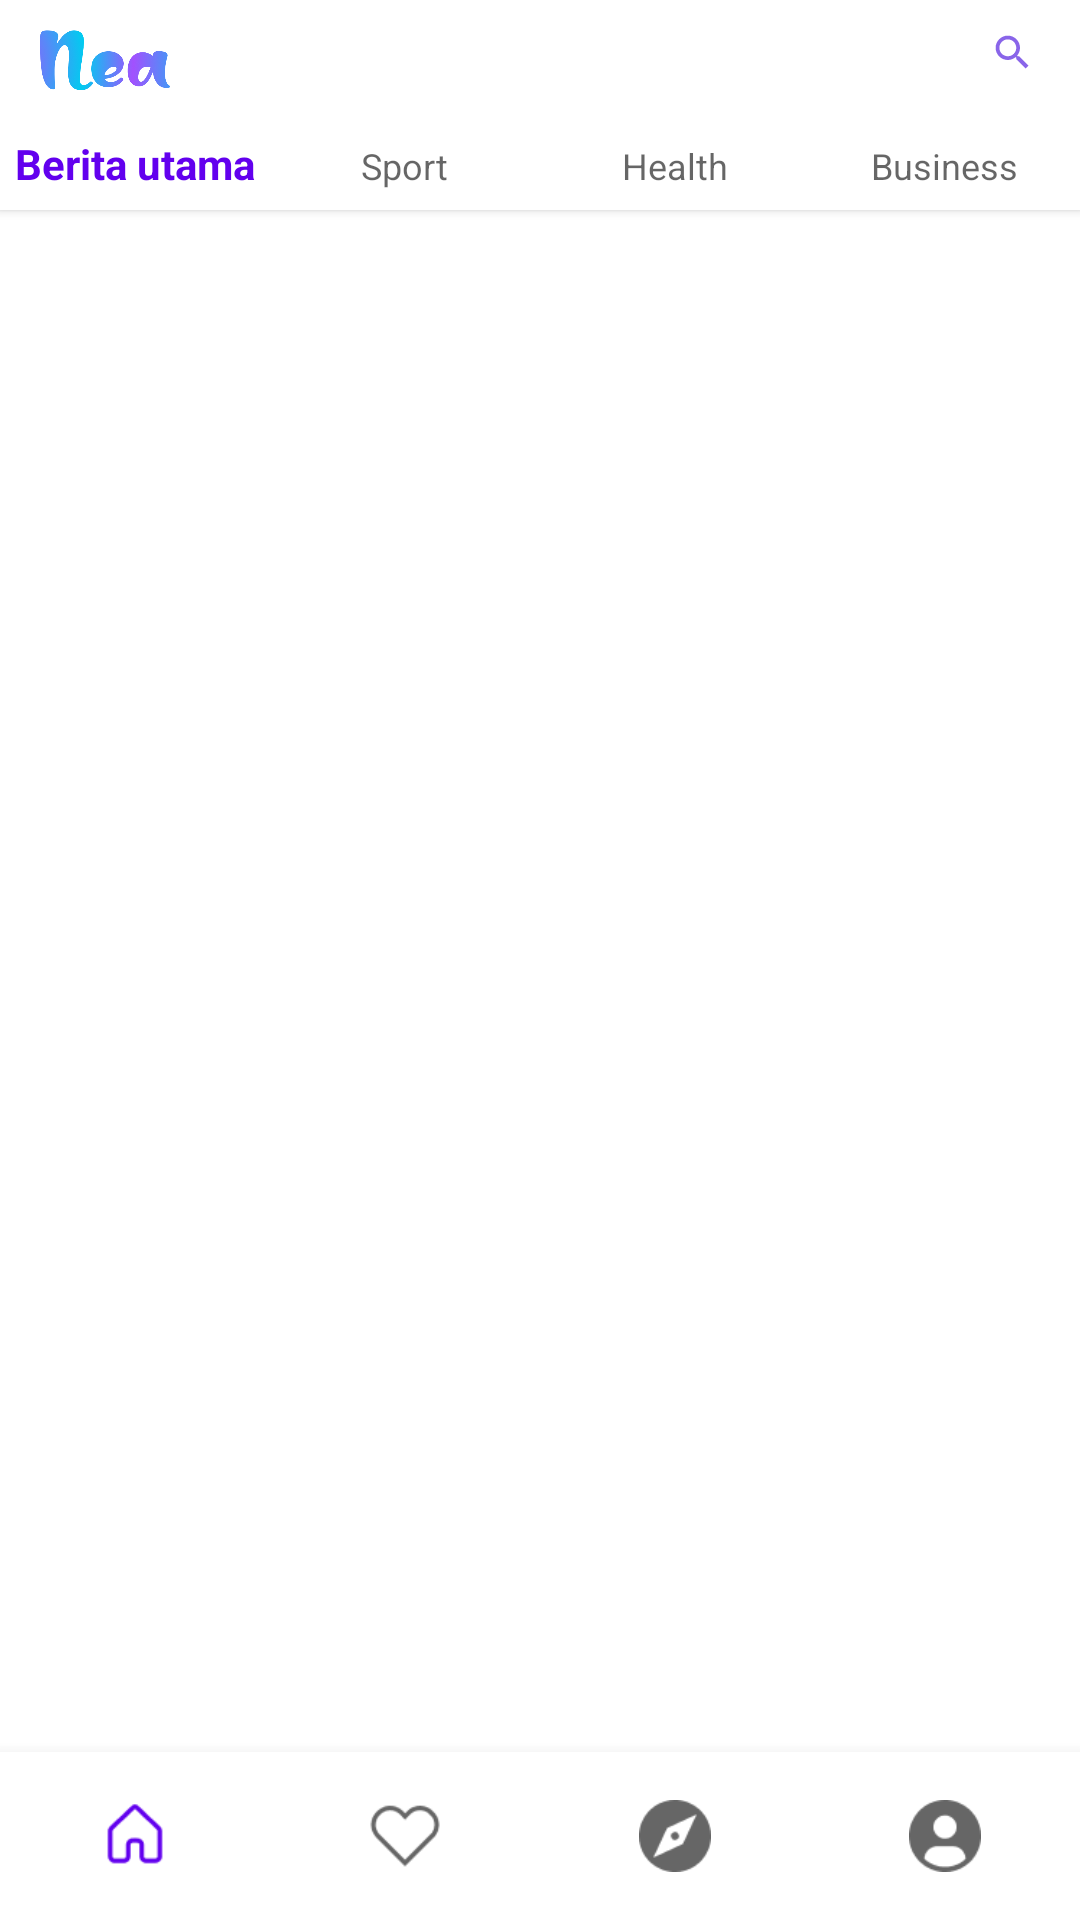

Icons on this 1080px×1920px Android screen, each with its box as (x1, y1, x2, y2):
search: (995, 35, 1029, 69)
